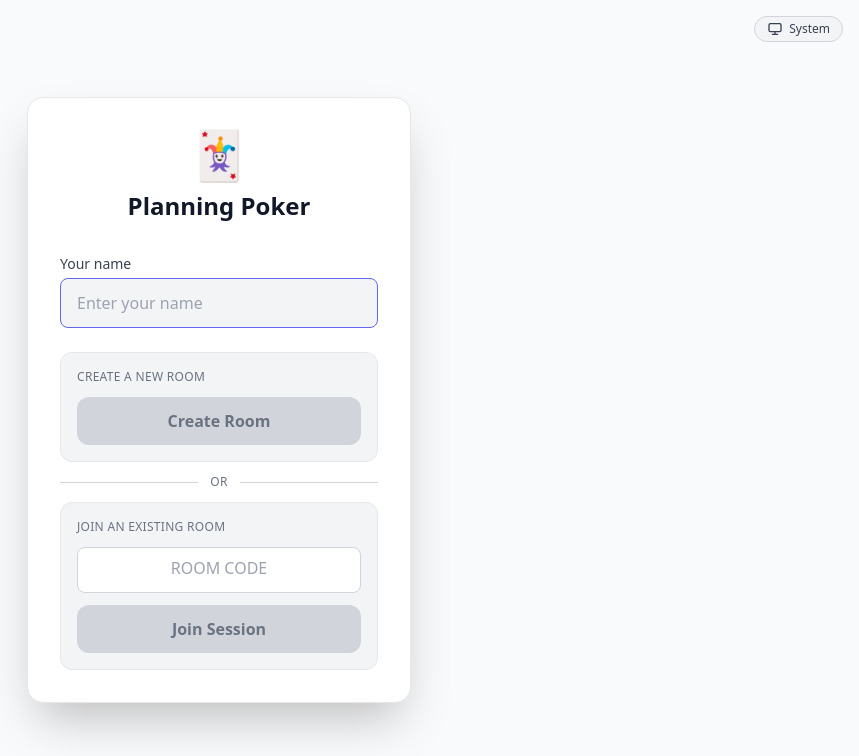
Scenario: HomeScreen › uppercases the code and strips disallowed characters
This screenshot has width=859, height=756.
Type "a1b-0c!9" into the field with placeholder "Room code" at (219, 570), box [77,547,361,593]
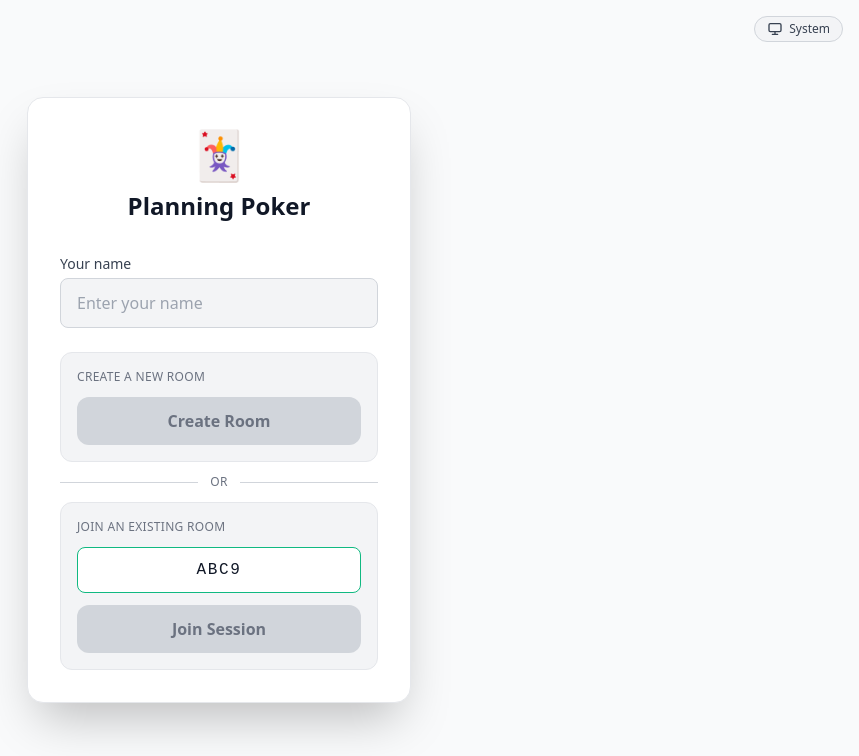
Expected: the field with placeholder "Room code" holds "ABC9", [77,547,361,593]
